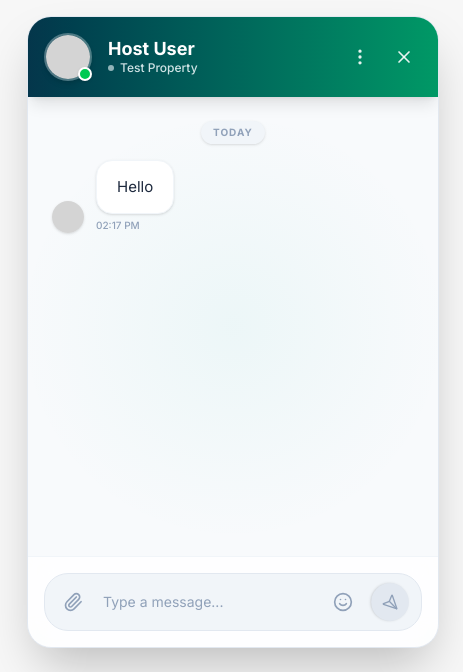
it: ChatWindow › sends a message optimistically
Type "Testing send" into the field with placeholder "Type a message..." at (208,602), box [103,580,313,624]
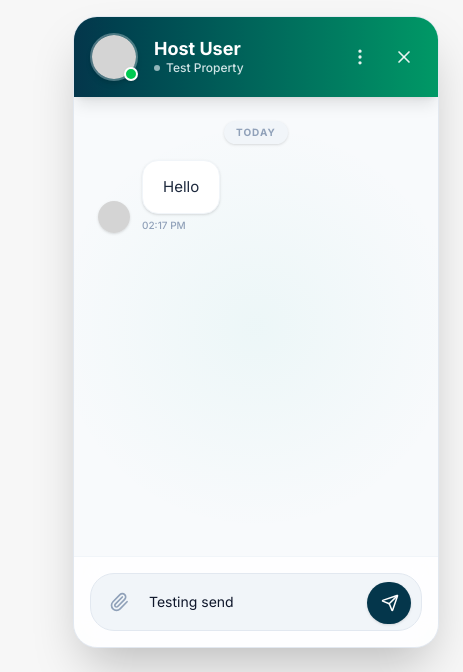
Submit the form with placeholder "Type a message", box [90,573,422,631]
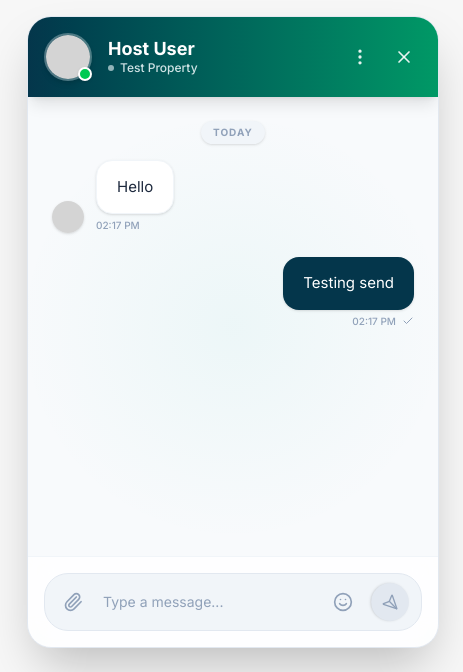
Expected: the text "Testing send" is shown, [283,257,414,310]
